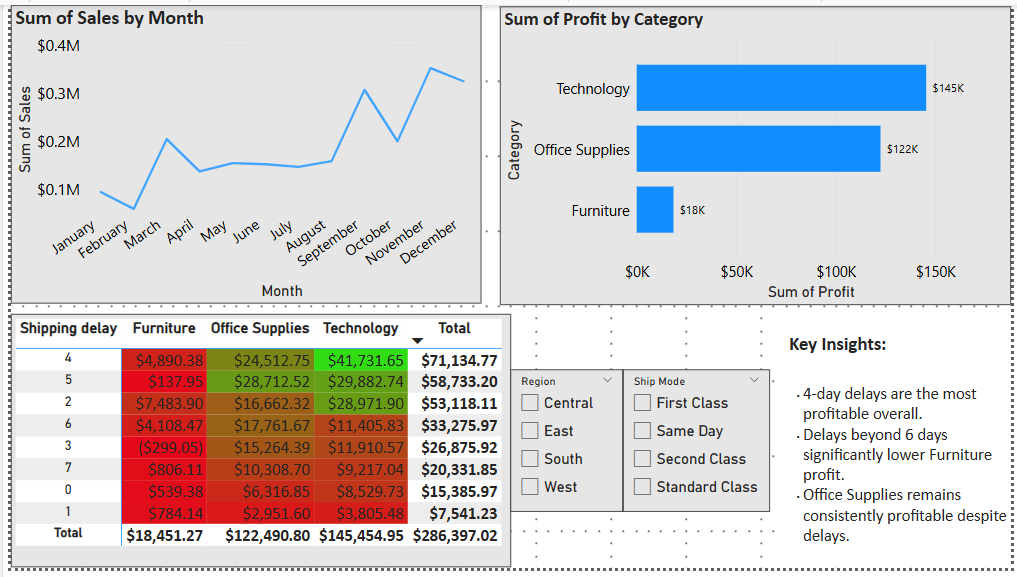

Layout of this report page (visuals, bound fields, positions):
{"tool":"powerbi","page":{"name":"Sales and Profit Performance – Shipping Delay Insights","canvas":[1280,720],"ordinal":2},"visuals":[{"type":"lineChart","fields":{"Category":["Sample - Superstore.Order Date.Variation.Date Hierarchy.Month"],"Y":["Sum(Sample - Superstore.Sales)"]},"box":[0,0,602,382],"z":0},{"type":"barChart","fields":{"Category":["Sample - Superstore.Category"],"Y":["Sum(Sample - Superstore.Profit)"]},"box":[626,2,654,382],"z":1000},{"type":"pivotTable","fields":{"Rows":["Sample - Superstore.Shipping delay"],"Values":["Sum(Sample - Superstore.Profit)"],"Columns":["Sample - Superstore.Category"]},"box":[0,396,640,324],"z":2000},{"type":"textbox","box":[990,396,290,324],"z":3000},{"type":"slicer","fields":{"Values":["Sample - Superstore.Region"]},"box":[639.4,464.6,163.2,182.4],"z":4000},{"type":"slicer","fields":{"Values":["Sample - Superstore.Ship Mode"]},"box":[802.6,464.6,188.2,182.4],"z":5000}]}

Visuals, with their boxes in screenshot pixels (x1, y1, x2, y2), scaled from the page's 1280x720 canvas onto the 1017x577 screenshot:
lineChart - Sample - Superstore.Order Date.Variation.Date Hierarchy.Month x Sum(Sample - Superstore.Sales): BBox(0, 0, 478, 306)
barChart - Sample - Superstore.Category x Sum(Sample - Superstore.Profit): BBox(497, 2, 1016, 308)
pivotTable - Sample - Superstore.Shipping delay x Sum(Sample - Superstore.Profit): BBox(0, 317, 508, 576)
textbox: BBox(787, 317, 1016, 576)
slicer - Sample - Superstore.Region: BBox(508, 372, 638, 518)
slicer - Sample - Superstore.Ship Mode: BBox(638, 372, 787, 518)
